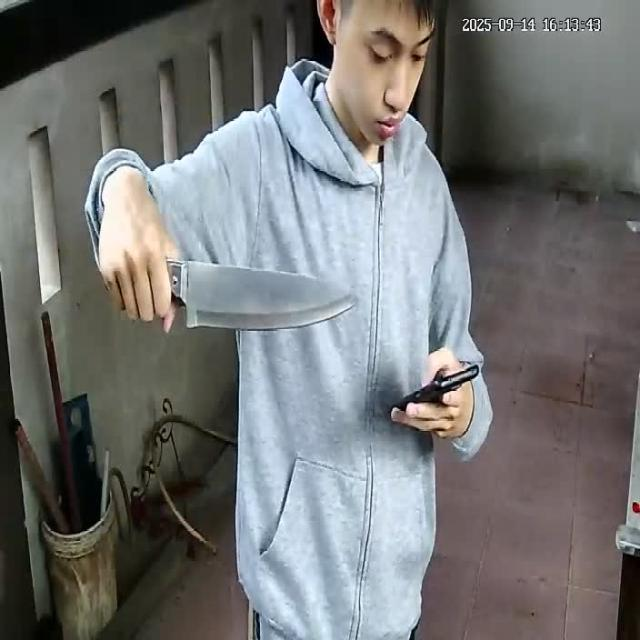senjata_tajam: (173, 259, 363, 332)
